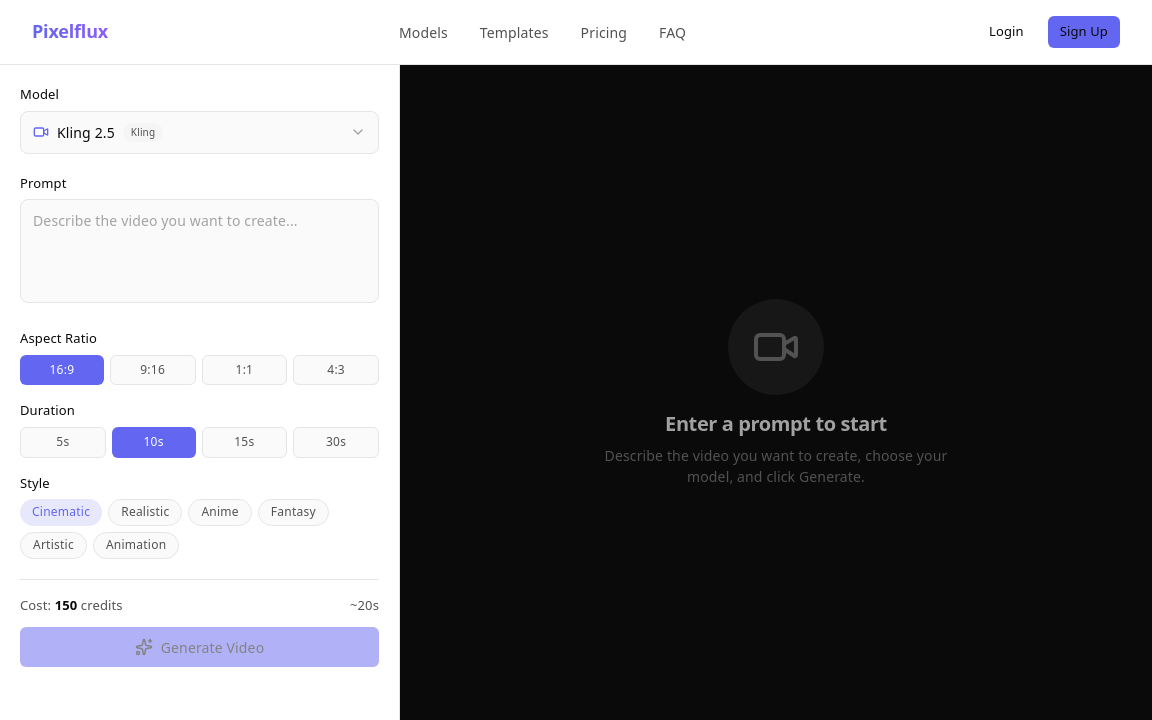
Scenario: GeneratePage › Generate Button States › Generate button is enabled when prompt has text
Type "Test prompt" into the text box with placeholder "Describe the video you want to create...".
click(200, 251); type("Test prompt")  # box [20,199,379,303]
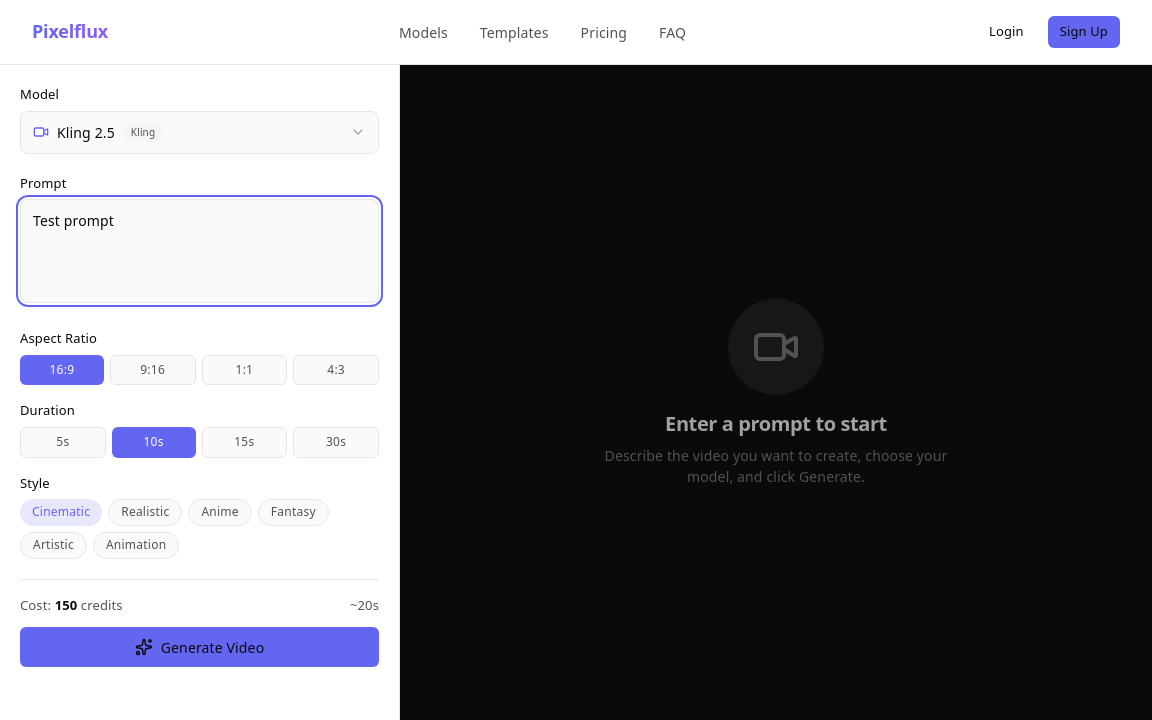
Check: the button "Generate Video" is enabled, box [20,627,379,667]
